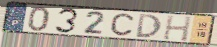0: (26, 6, 52, 32)
2: (82, 10, 105, 36)
3: (52, 7, 81, 34)
C: (110, 12, 136, 37)
D: (135, 13, 163, 39)
H: (162, 14, 194, 43)
